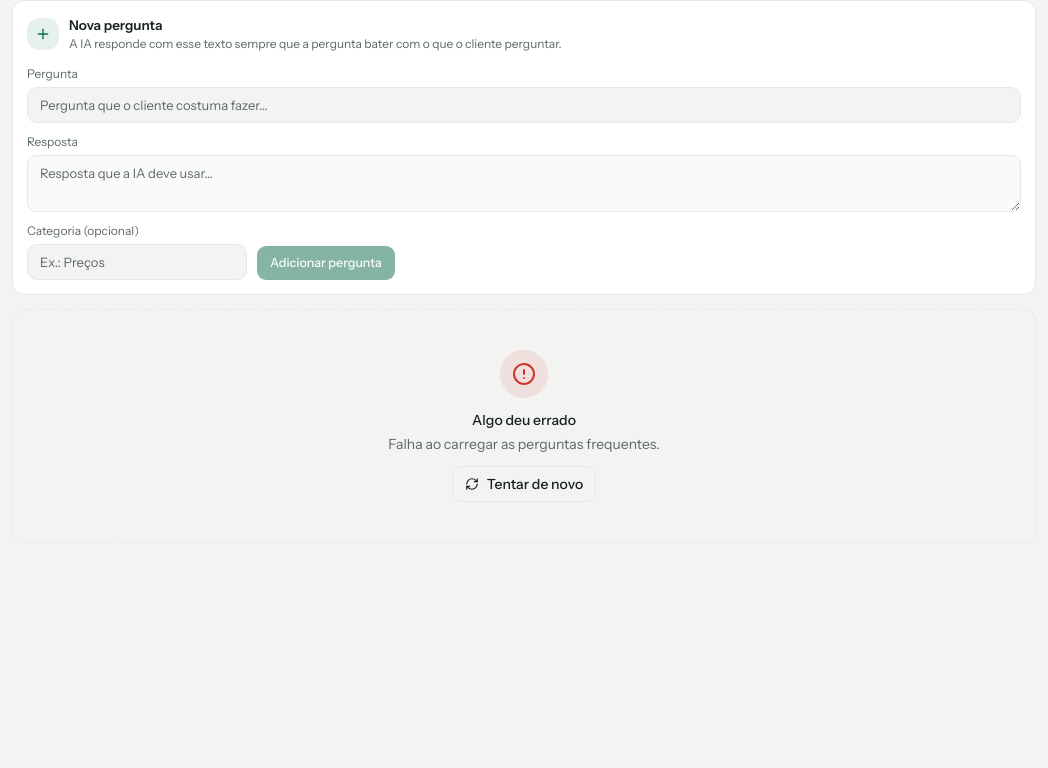
Test case: AiFaqPanel (Cérebro da IA v3, Fase 2) › erro de carregamento inicial vira ErrorState com retry, nunca a mensagem de lista vazia
Expected: the text "Falha ao carregar as perguntas frequentes." is shown, [388,434,660,454]
Click the button "Tentar de novo": (524, 484) [452,466,596,502]
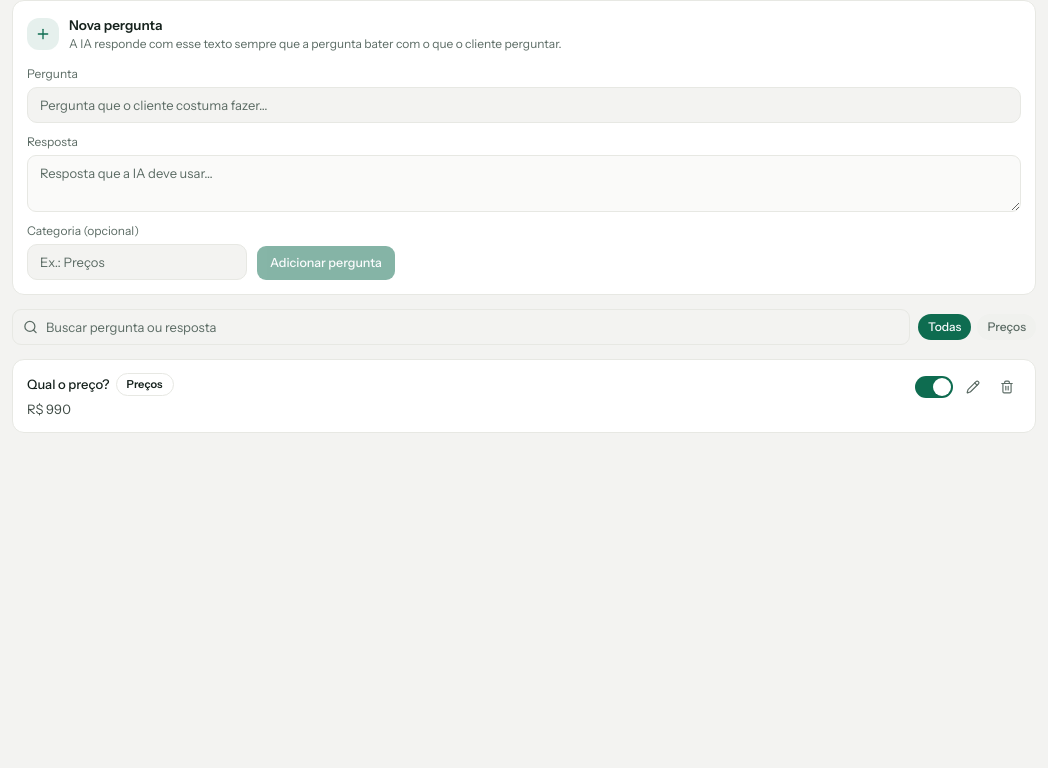
Expected: the text "Qual o preço?" is shown, [27,375,110,394]
